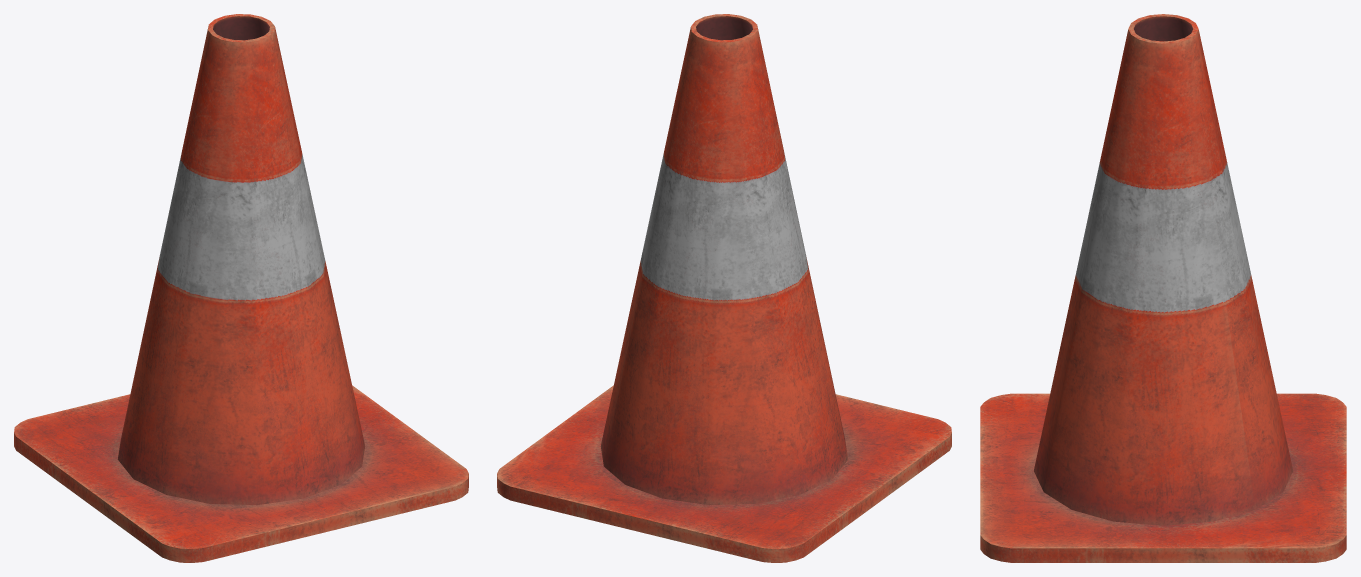
The picture shows the model from 3 angles, left to right: view 1: azimuth 30°, elevation 25°; view 2: azimuth 150°, elevation 25°; view 3: azimuth 270°, elevation 25°; orthographic projection. The views are drawn at different scales.
Parts seen in each view (by area): view 1: cone_low; view 2: cone_low; view 3: cone_low.
Boxes of the visible parts, x1=… form: cone_low: x1=14, y1=14, x2=468, y2=562; cone_low: x1=497, y1=14, x2=951, y2=562; cone_low: x1=980, y1=14, x2=1346, y2=562.
Size of the model in its own units: 0.2294 by 0.3157 by 0.2294.
Materials: 1 (1 with a texture image).
